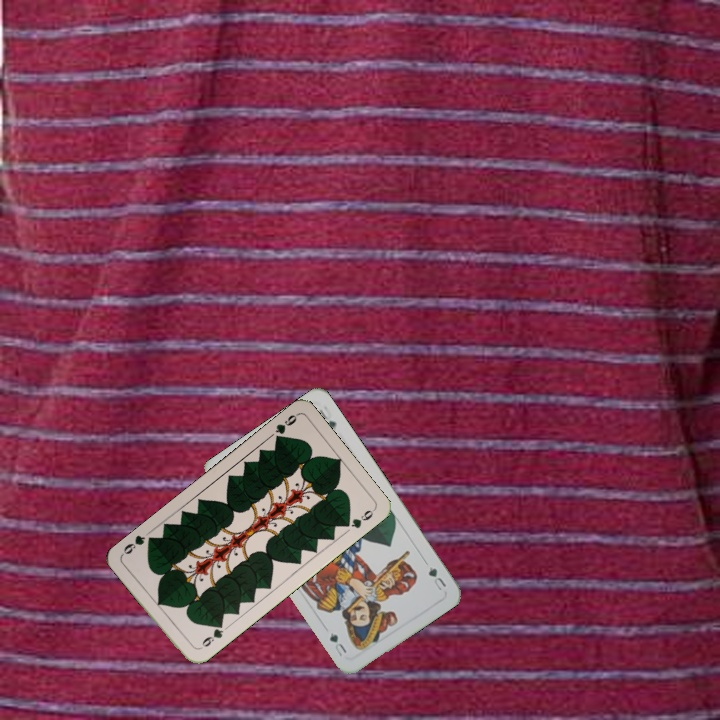G9: (194, 619, 226, 652), (271, 410, 300, 445)
GU: (421, 557, 449, 593)
